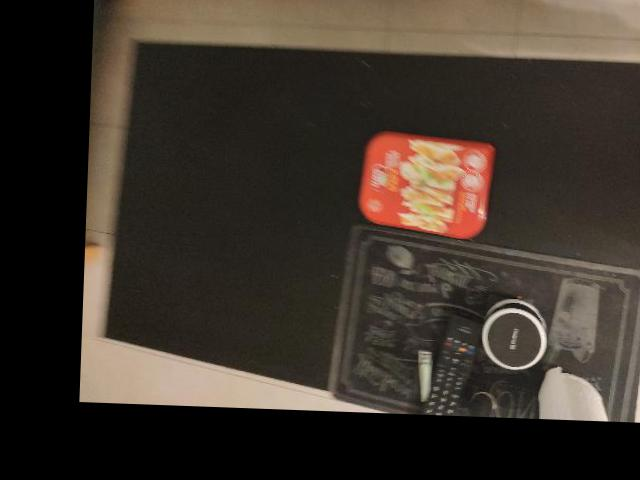cheese: (352, 131, 498, 244)
